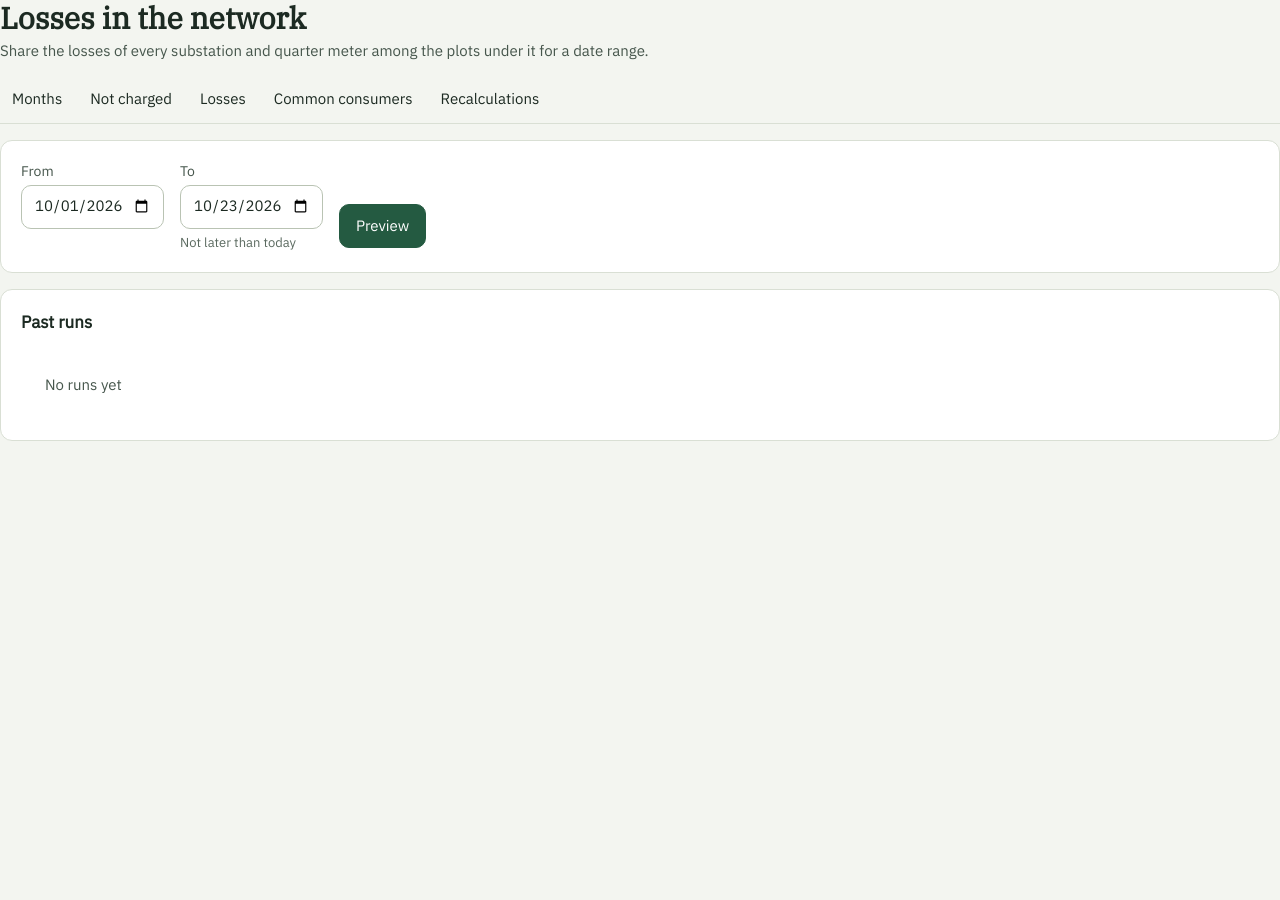
LossesPage › shows the preview per node with the kWh, the percent, the plots and the calculated badge
What coordinates should you click on to do the following:
click the button "Preview"
I would click on:
 (383, 226)
Its box is [339, 204, 426, 248].
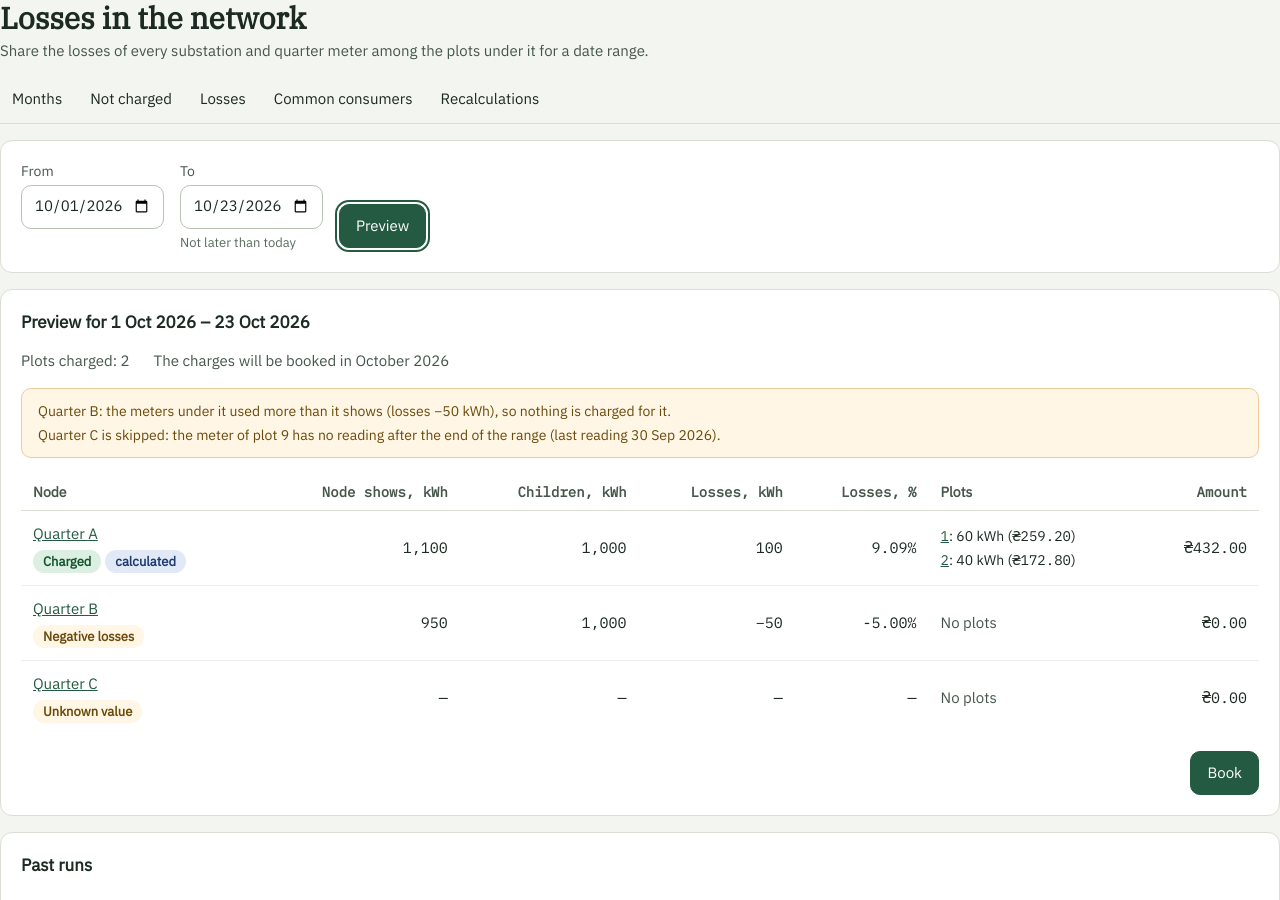
Expected: the row "Quarter A" is shown, [21, 511, 1259, 586]
Expected: the text "1,100" is shown, [258, 511, 460, 586]
Expected: the text "1,000" in the row of "Quarter A" is shown, [582, 538, 627, 557]
